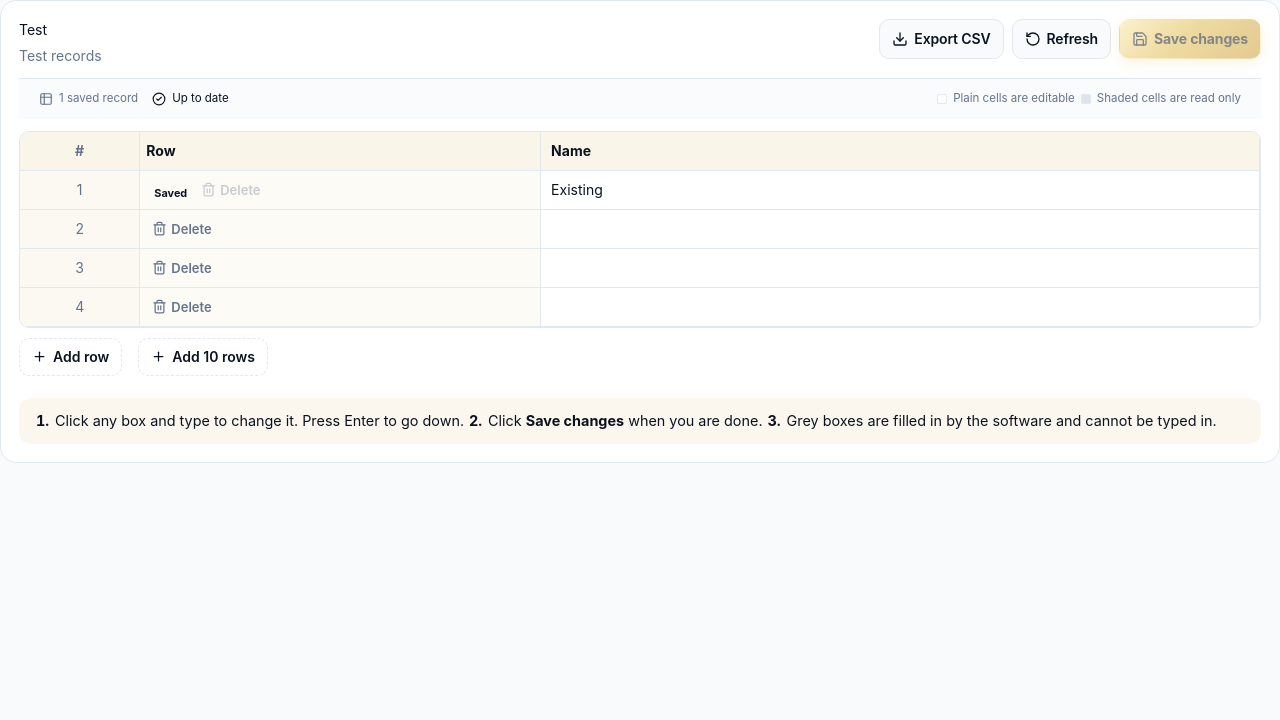
Test case: keeps failed rows editable without retrying successful inserts
Expected: the field named "Name row 1" is shown, [541,171,1259,209]
Type "New" into the field named "Name row 2". click: (900, 229)
box: [541,210,1259,248]
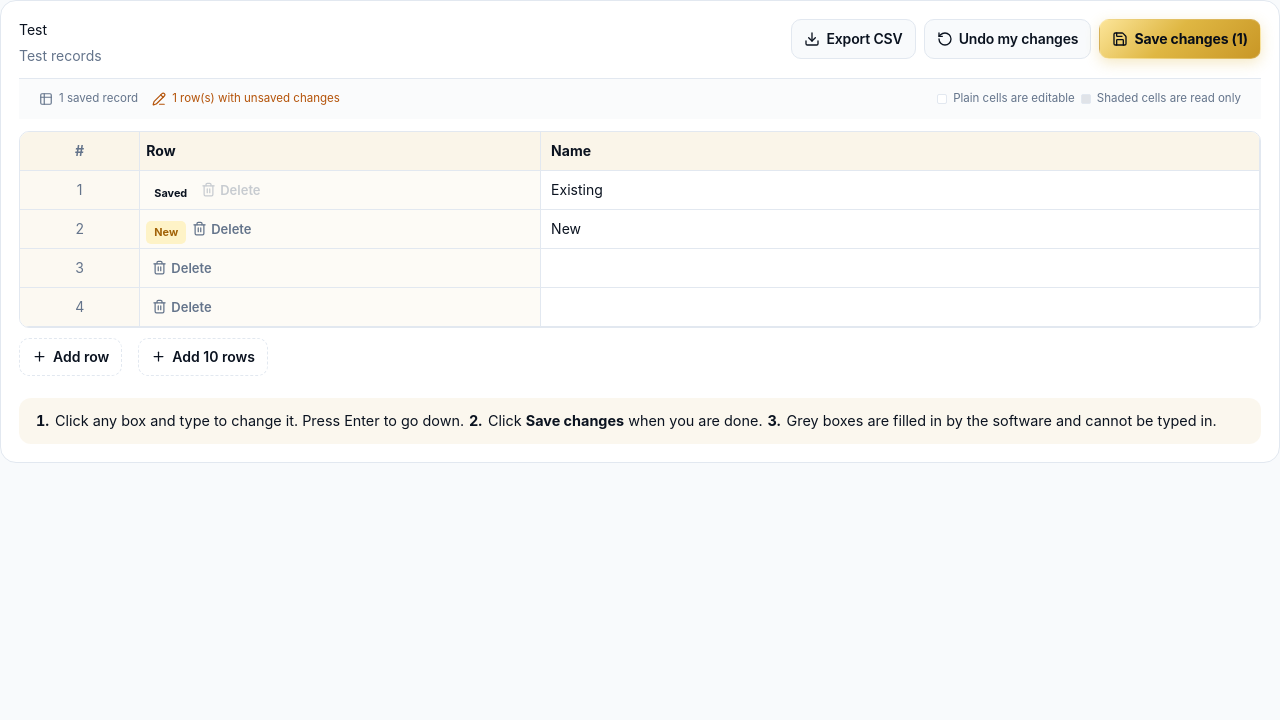
Type "Invalid" into the field named "Name row 3". click: (900, 268)
box: [541,249,1259,287]
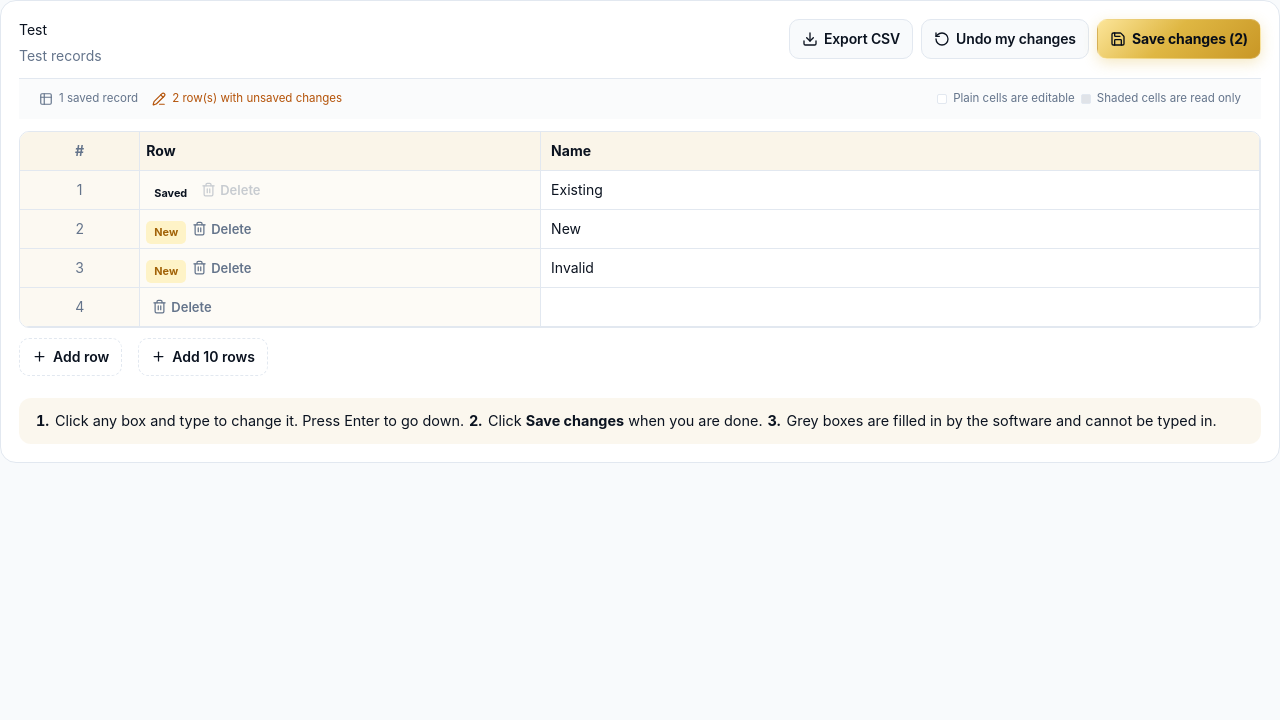
Click the button "Save changes (2)". click: click(1179, 39)
box: [1097,19,1261,59]
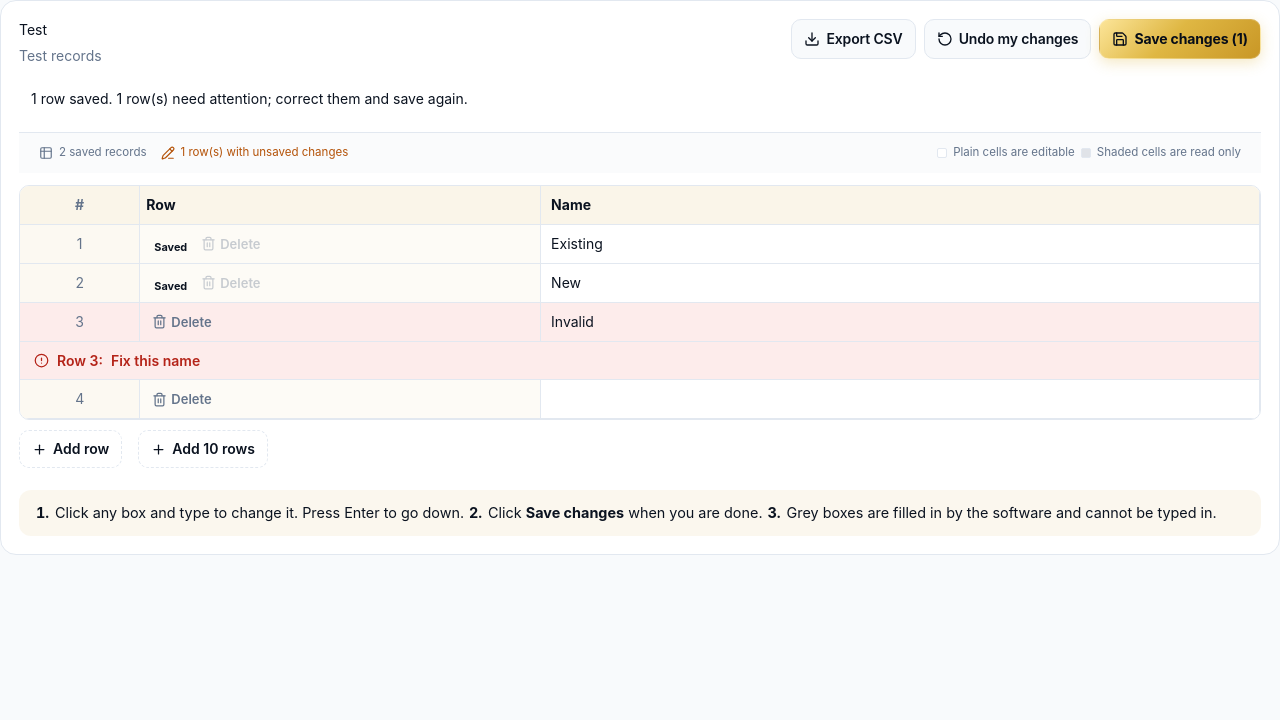
Now the button "Save changes (1)" is enabled, box [1099,19,1261,59]
Now the text "Fix this name" is shown, box [111,350,200,371]
Replace the text in the field named "Name row 3" with "Corrected". click: (900, 322)
box: [541,303,1259,341]
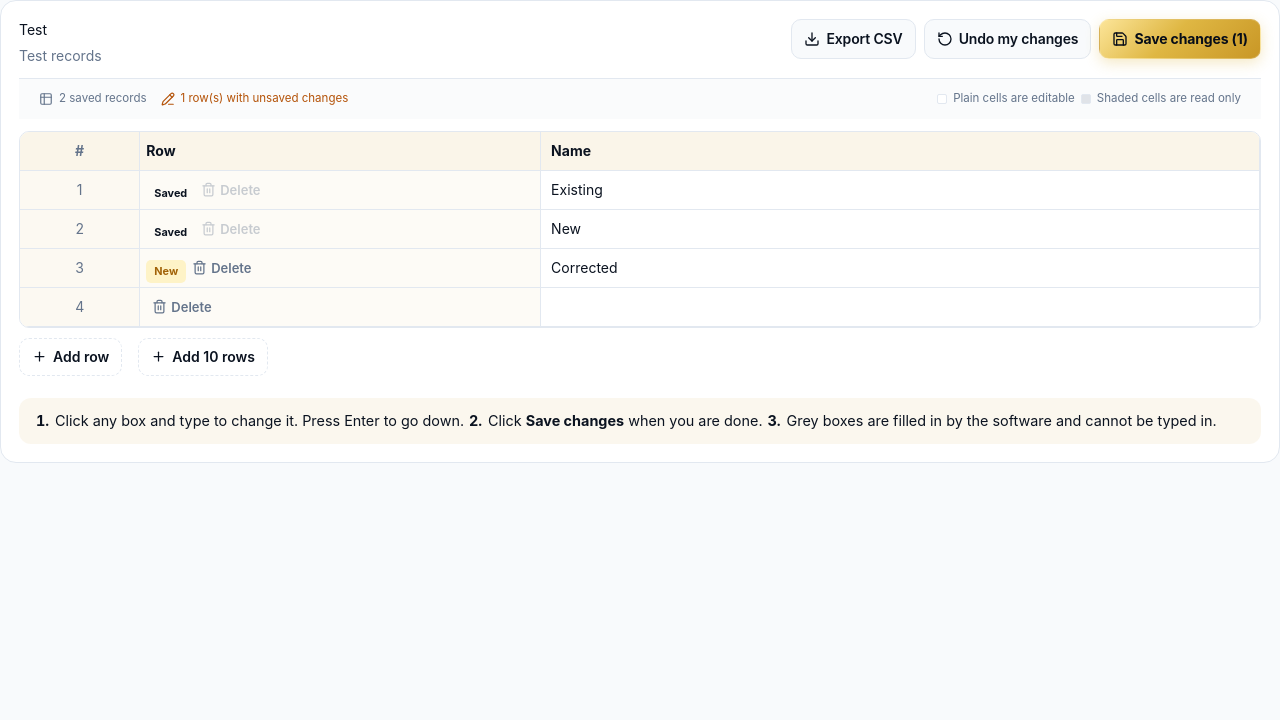
Click the button "Save changes (1)". click: click(1180, 39)
box: [1099,19,1261,59]
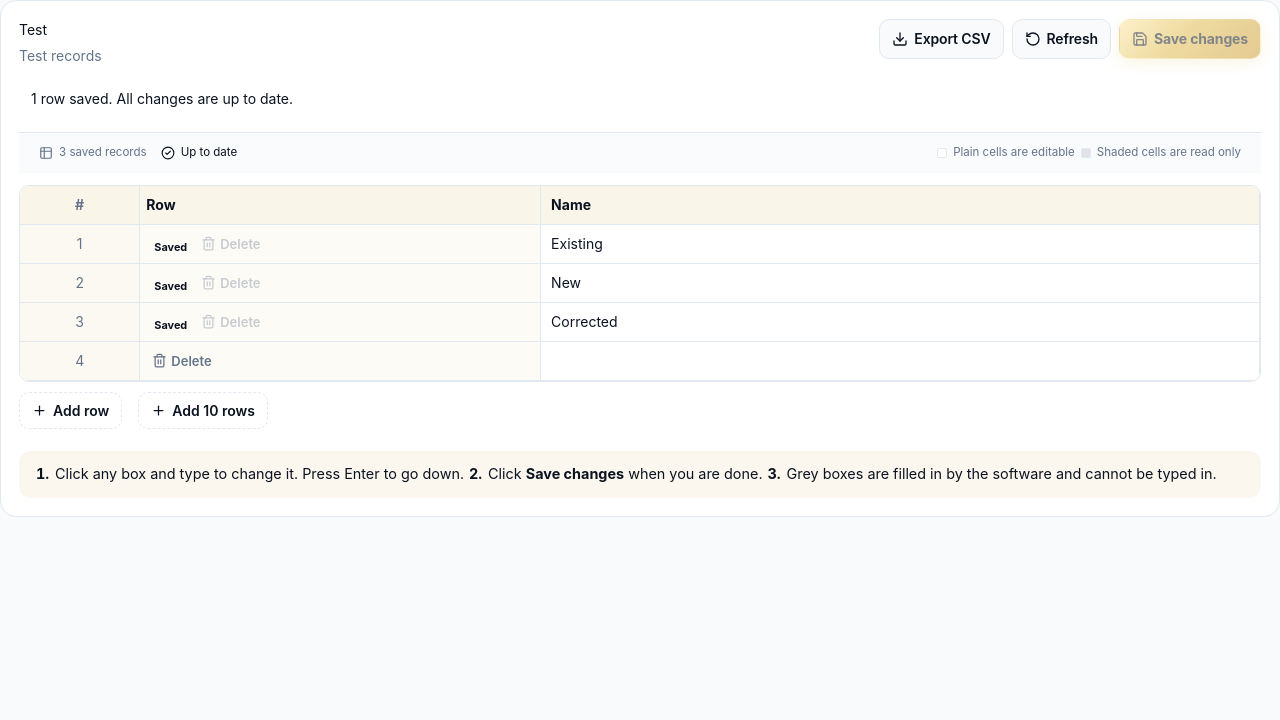
Now the button "Save changes" is disabled, box [1119,19,1261,59]
